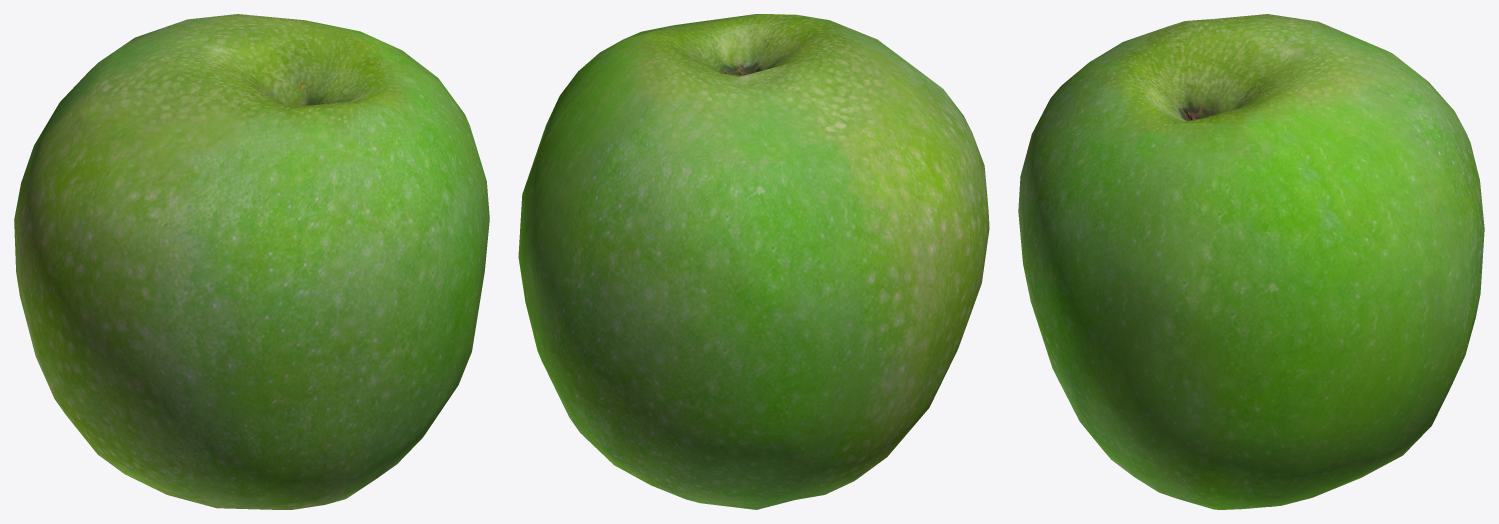
Rendered from Apple.FBX.
3 views of the same model, side by side, from view 1: azimuth 30°, elevation 25°; view 2: azimuth 150°, elevation 25°; view 3: azimuth 270°, elevation 25° (orthographic).
Parts seen in each view (by area): view 1: apple; view 2: apple; view 3: apple.
Boxes of the visible parts, <box> form: apple: <box>14,14,489,509</box>; apple: <box>518,14,989,509</box>; apple: <box>1018,14,1484,509</box>.
Bounding box in the file's own units: 8.77 × 8.65 × 8.58.
1 material, 1 textured.
